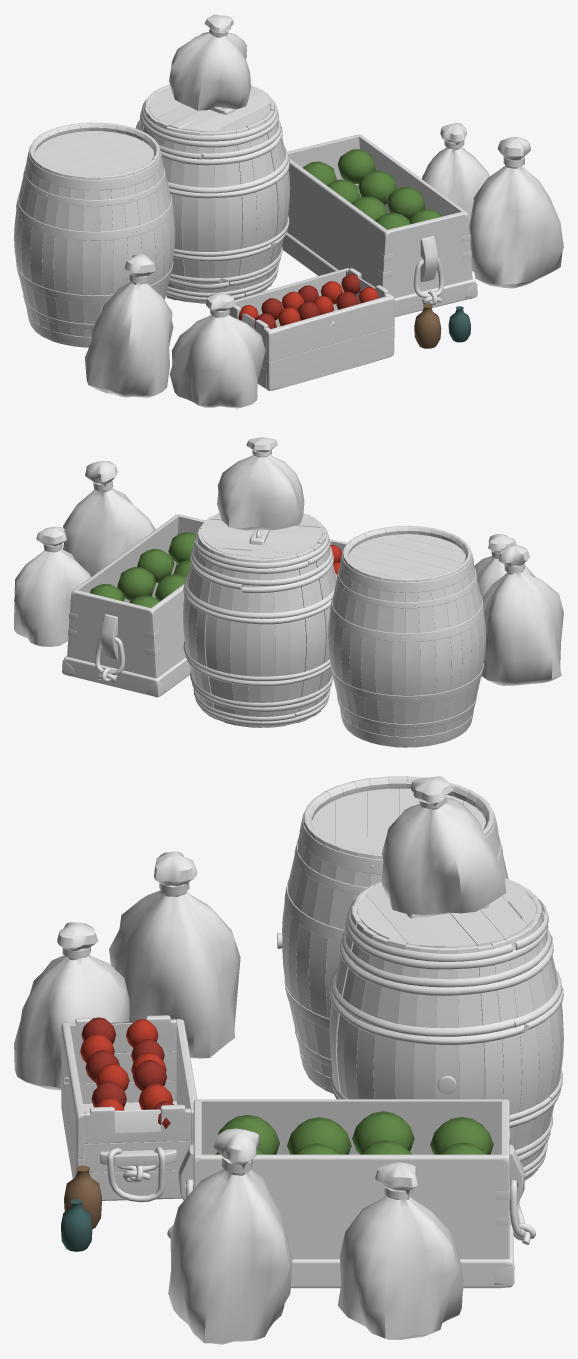
The model's file is SilverbrookPropMarketGoods.glb.
3 views of the same model, one above another, from view 1: azimuth 30°, elevation 25°; view 2: azimuth 150°, elevation 25°; view 3: azimuth 270°, elevation 25° (orthographic). The views are drawn at different scales.
Parts seen in each view (by area): view 1: SM_SBMarketGoods_Sacks, wooden_barrels_01_1, wine_barrel_01_0, wooden_crate_02_0, wooden_crate_01_0, SM_SBMarketGoods_Produce, wine_barrel_01_3, SM_SBMarketGoods_Jugs; view 2: wooden_barrels_01_1, SM_SBMarketGoods_Sacks, wine_barrel_01_0, wooden_crate_02_0, wine_barrel_01_3, SM_SBMarketGoods_Produce; view 3: SM_SBMarketGoods_Sacks, wooden_barrels_01_1, wooden_crate_02_0, wine_barrel_01_0, wooden_crate_01_0, SM_SBMarketGoods_Produce, wine_barrel_01_3, SM_SBMarketGoods_Jugs.
Part boxes in pixels (left/top/right/bottom): SM_SBMarketGoods_Sacks: left=85, top=14, right=563, bottom=408; wooden_barrels_01_1: left=135, top=84, right=290, bottom=303; wine_barrel_01_0: left=14, top=122, right=175, bottom=347; wooden_crate_02_0: left=282, top=134, right=477, bottom=316; wooden_crate_01_0: left=229, top=268, right=394, bottom=390; SM_SBMarketGoods_Produce: left=238, top=149, right=442, bottom=328; wine_barrel_01_3: left=35, top=131, right=153, bottom=176; SM_SBMarketGoods_Jugs: left=414, top=303, right=470, bottom=348; wooden_barrels_01_1: left=183, top=513, right=337, bottom=727; SM_SBMarketGoods_Sacks: left=14, top=437, right=563, bottom=685; wine_barrel_01_0: left=328, top=525, right=486, bottom=747; wooden_crate_02_0: left=62, top=514, right=204, bottom=697; wine_barrel_01_3: left=348, top=534, right=465, bottom=578; SM_SBMarketGoods_Produce: left=90, top=532, right=341, bottom=607; SM_SBMarketGoods_Sacks: left=14, top=776, right=506, bottom=1344; wooden_barrels_01_1: left=329, top=878, right=563, bottom=1180; wooden_crate_02_0: left=167, top=1099, right=535, bottom=1288; wine_barrel_01_0: left=282, top=776, right=508, bottom=1093; wooden_crate_01_0: left=61, top=1015, right=196, bottom=1202; SM_SBMarketGoods_Produce: left=80, top=1017, right=493, bottom=1154; wine_barrel_01_3: left=312, top=788, right=485, bottom=853; SM_SBMarketGoods_Jugs: left=61, top=1165, right=101, bottom=1251.
Size of the model in its own units: 2.59 by 1.35 by 1.74.
